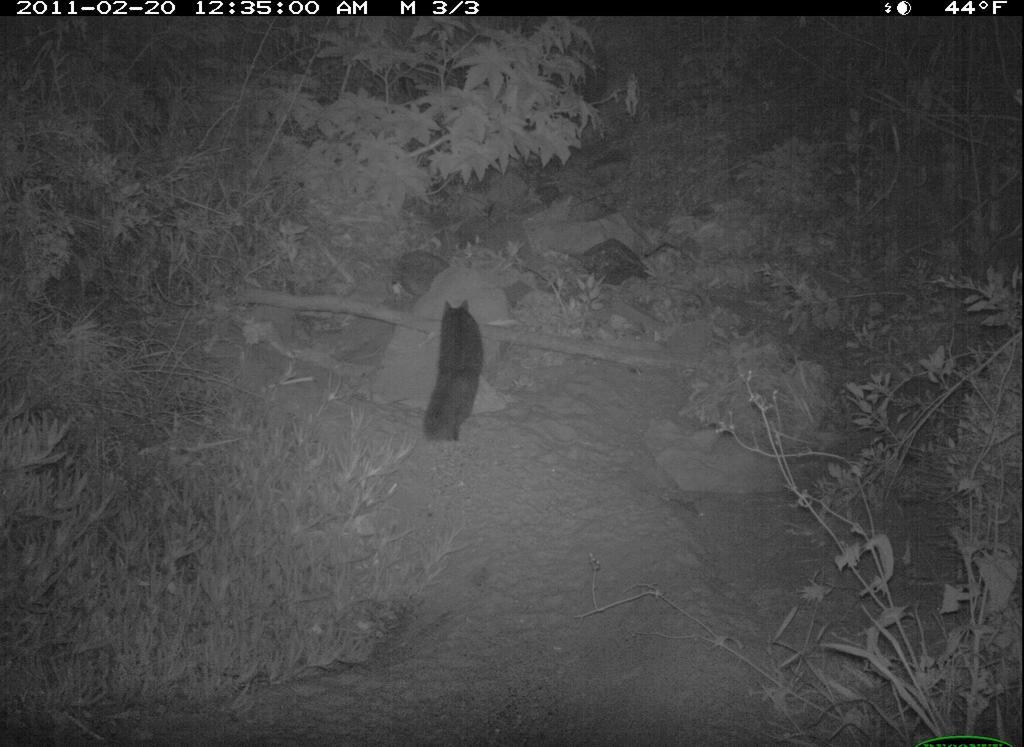cat: (406, 297, 511, 463)
